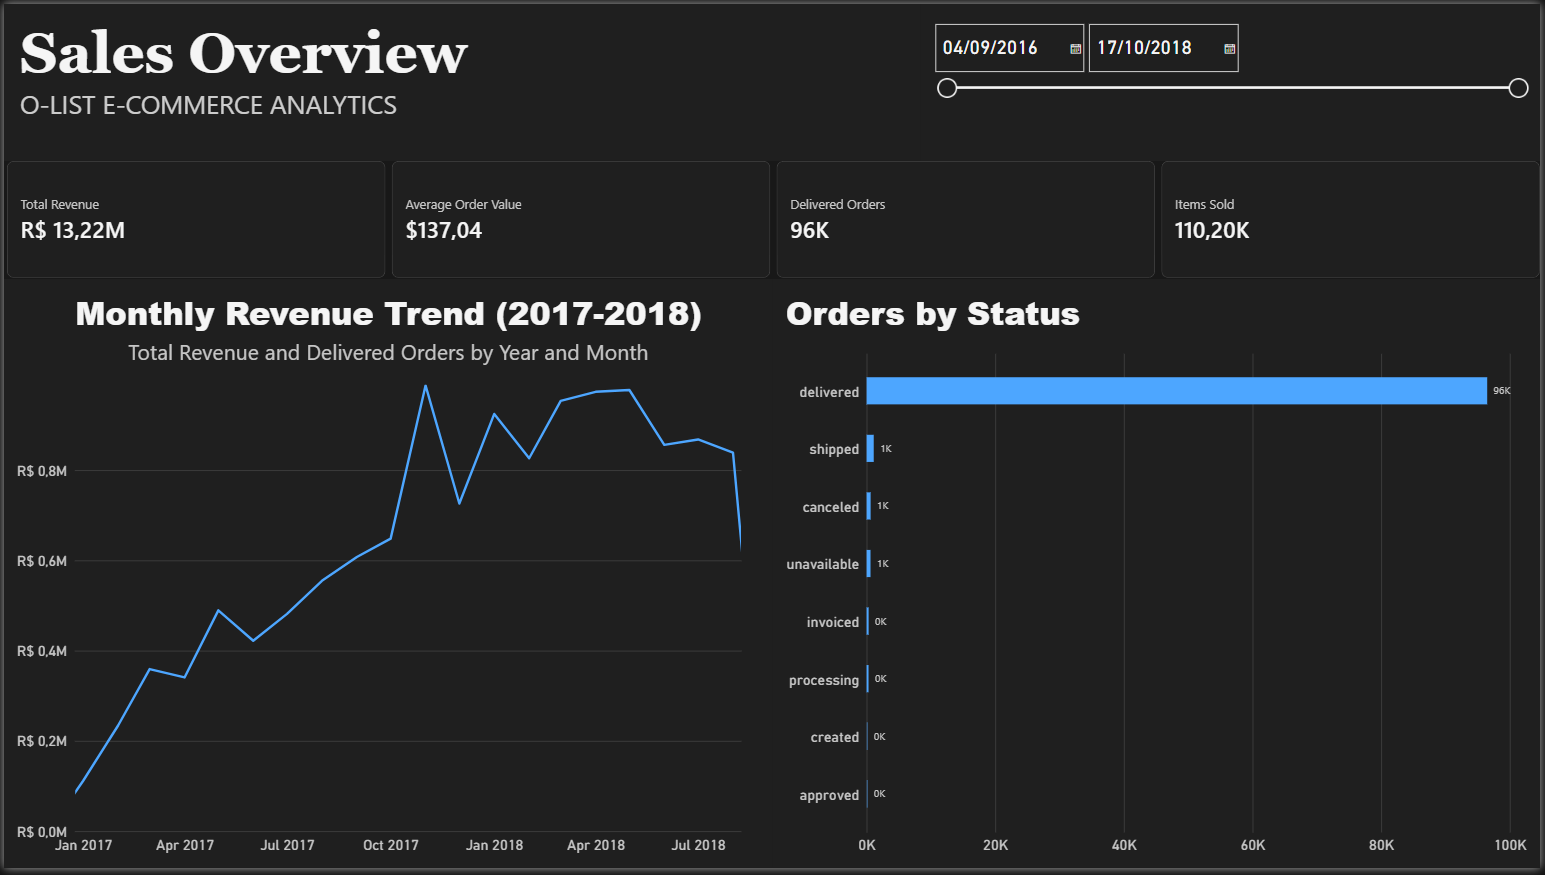

This screenshot's page, from the dashboard's own definition file:
{"tool":"powerbi","page":{"name":"Sales Overview ","canvas":[1920,1080],"ordinal":0},"visuals":[{"type":"cardVisual","fields":{"Data":["FCT_SALES.Total Revenue","FCT_SALES.Average Order Value","FCT_SALES.Delivered Orders","FCT_SALES.Items Sold"]},"box":[3.3,196.7,1916.7,146.7],"z":3000},{"type":"lineChart","title":"Monthly Revenue Trend (2017-2018)","fields":{"Category":["FCT_SALES.ORDER_PURCHASE_TIMESTAMP.Variation.Date Hierarchy.Year","FCT_SALES.ORDER_PURCHASE_TIMESTAMP.Variation.Date Hierarchy.Month"],"Y":["FCT_SALES.Total Revenue"]},"box":[0,343.8,961.2,736.2],"z":4000},{"type":"slicer","fields":{"Values":["FCT_SALES.ORDER_PURCHASE_TIMESTAMP"]},"box":[1146.2,0,773.8,196.2],"z":5000},{"type":"clusteredBarChart","title":"Orders by Status ","fields":{"Category":["FCT_SALES.ORDER_STATUS"],"Y":["CountNonNull(FCT_SALES.ORDER_ID)"]},"box":[961.2,343.8,958.8,736.2],"z":6000},{"type":"textbox","box":[0,0,1146.2,196.2],"z":7000}]}

Visuals, with their boxes in screenshot pixels (x1, y1, x2, y2), scaled from the page's 1920x1080 canvas onto the 1545x875 screenshot:
cardVisual - FCT_SALES.Total Revenue x FCT_SALES.Average Order Value: BBox(3, 159, 1544, 278)
"Monthly Revenue Trend (2017-2018)" lineChart: BBox(0, 279, 773, 874)
slicer - FCT_SALES.ORDER_PURCHASE_TIMESTAMP: BBox(922, 0, 1544, 159)
"Orders by Status " clusteredBarChart: BBox(773, 279, 1544, 874)
textbox: BBox(0, 0, 922, 159)
